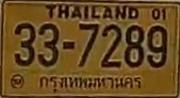2: (100, 24, 122, 66)
3: (37, 22, 58, 66), (14, 22, 35, 65)
7: (78, 23, 98, 66)
8: (124, 24, 143, 66)
9: (147, 25, 166, 67)
BKK: (35, 72, 145, 95)
